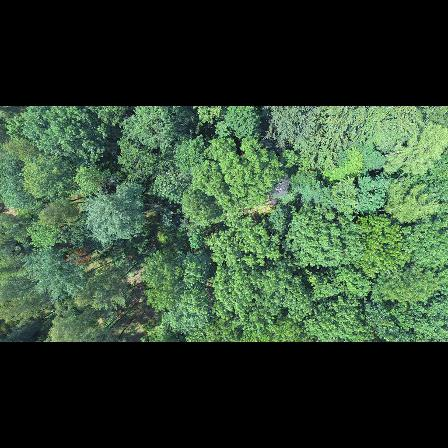Dead: (266, 175, 295, 201)
